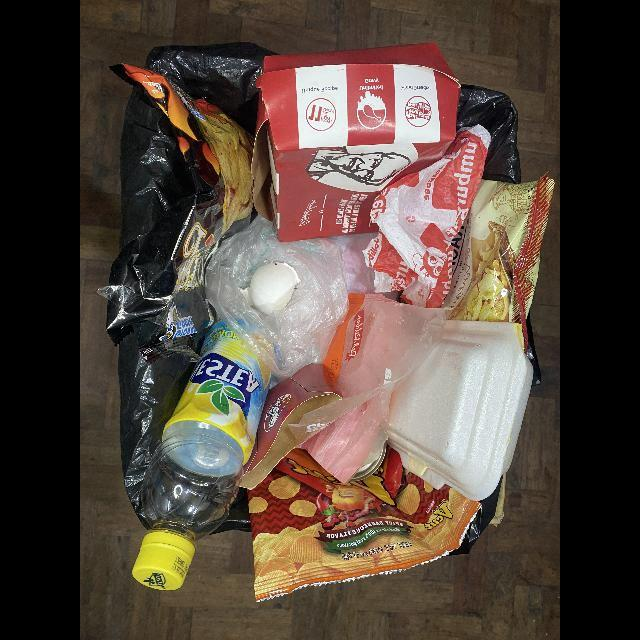cardboard: (251, 42, 461, 242)
food_wrapper: (106, 65, 255, 365), (247, 448, 481, 601), (288, 291, 455, 484), (443, 174, 555, 354)
paper: (363, 124, 493, 308), (240, 364, 343, 490)
plastic_bag: (204, 215, 350, 377)
plastic_bottle: (133, 315, 278, 591)
